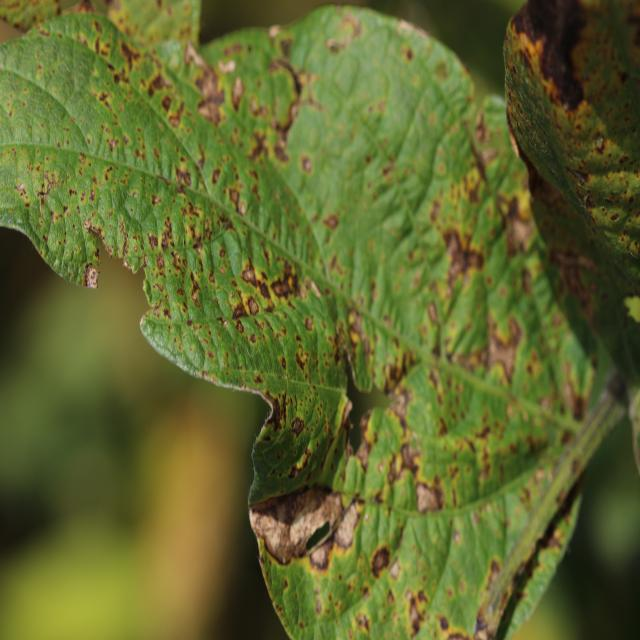Bacterial_Blight: (442, 228, 485, 293), (486, 317, 520, 384), (384, 440, 424, 494), (347, 310, 379, 375), (192, 60, 226, 119), (429, 601, 478, 640), (331, 501, 361, 552), (513, 140, 541, 194), (560, 373, 590, 422), (272, 262, 310, 299), (537, 509, 569, 552), (327, 13, 362, 52), (357, 408, 382, 461), (385, 387, 413, 432), (507, 210, 534, 255), (262, 392, 287, 432), (384, 353, 409, 387), (606, 369, 629, 402), (407, 592, 424, 635), (183, 40, 207, 69), (371, 545, 392, 578), (474, 109, 493, 145), (309, 539, 331, 570), (119, 39, 140, 71), (250, 129, 269, 160), (147, 73, 168, 98), (40, 173, 59, 200), (82, 263, 101, 289), (486, 558, 502, 588), (426, 300, 441, 329), (188, 269, 202, 300), (160, 221, 174, 251), (175, 165, 191, 189), (273, 142, 290, 164), (278, 36, 294, 59), (89, 223, 105, 245), (355, 612, 370, 634), (569, 168, 587, 186), (218, 57, 236, 75), (322, 212, 339, 231), (433, 60, 449, 80), (381, 158, 396, 178), (228, 187, 241, 210), (241, 267, 257, 285), (232, 303, 248, 321), (106, 137, 120, 155), (15, 182, 29, 200), (118, 238, 129, 259), (301, 155, 313, 173), (147, 233, 158, 251), (584, 194, 595, 210), (304, 316, 314, 332), (562, 98, 573, 112), (315, 598, 323, 615), (453, 529, 462, 544), (151, 194, 162, 206), (131, 261, 140, 275), (49, 208, 56, 223), (610, 212, 620, 222), (89, 189, 96, 201), (69, 188, 77, 197), (42, 234, 49, 243), (67, 270, 73, 280)
Soybean: (0, 0, 594, 638)
